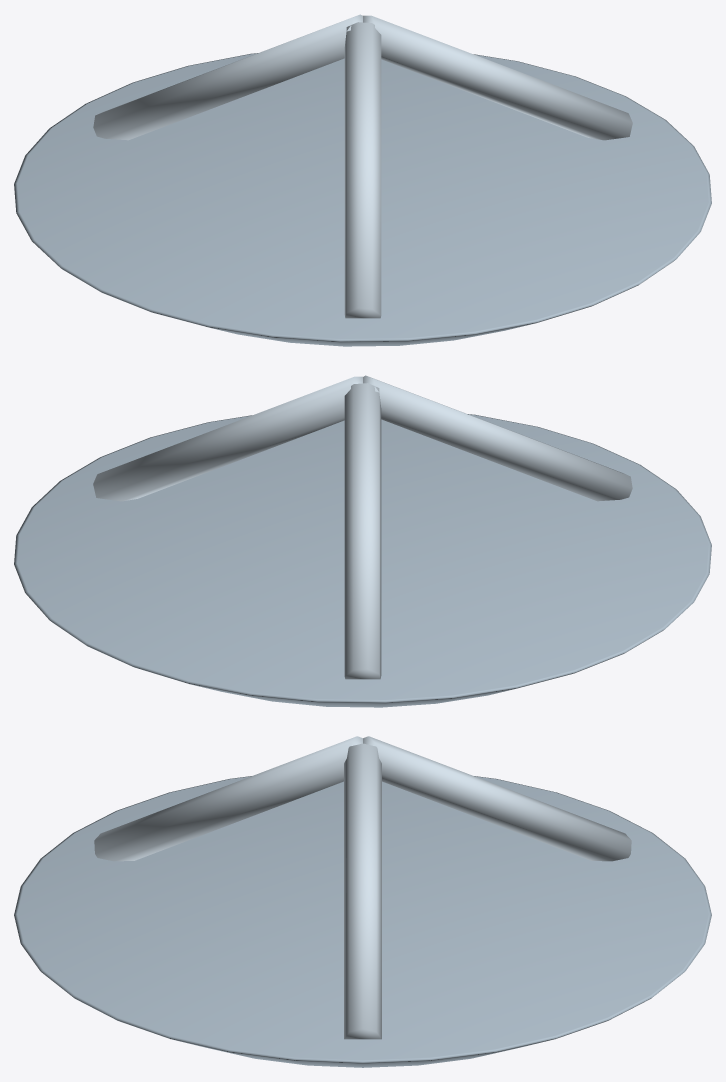
Rendered from scale_pan.glb.
3 views of the same model, one above another, from view 1: azimuth 30°, elevation 25°; view 2: azimuth 150°, elevation 25°; view 3: azimuth 270°, elevation 25° (orthographic).
Visible parts, largest first — view 1: Pan_Dish, Pan_Cords; view 2: Pan_Dish, Pan_Cords; view 3: Pan_Dish, Pan_Cords.
Part boxes in pixels (x1,y1,x2,y2): Pan_Dish: (14, 53, 711, 346); Pan_Cords: (93, 14, 632, 318); Pan_Dish: (14, 414, 711, 707); Pan_Cords: (93, 375, 632, 679); Pan_Dish: (14, 776, 711, 1067); Pan_Cords: (94, 736, 631, 1039).
Size of the model in its own units: 1.11 by 0.3658 by 1.11.
